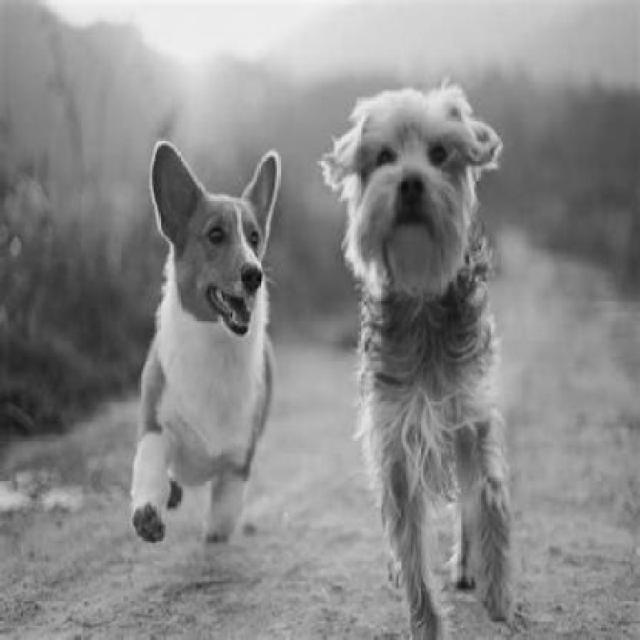Dog: (323, 80, 554, 638), (131, 81, 287, 547)
